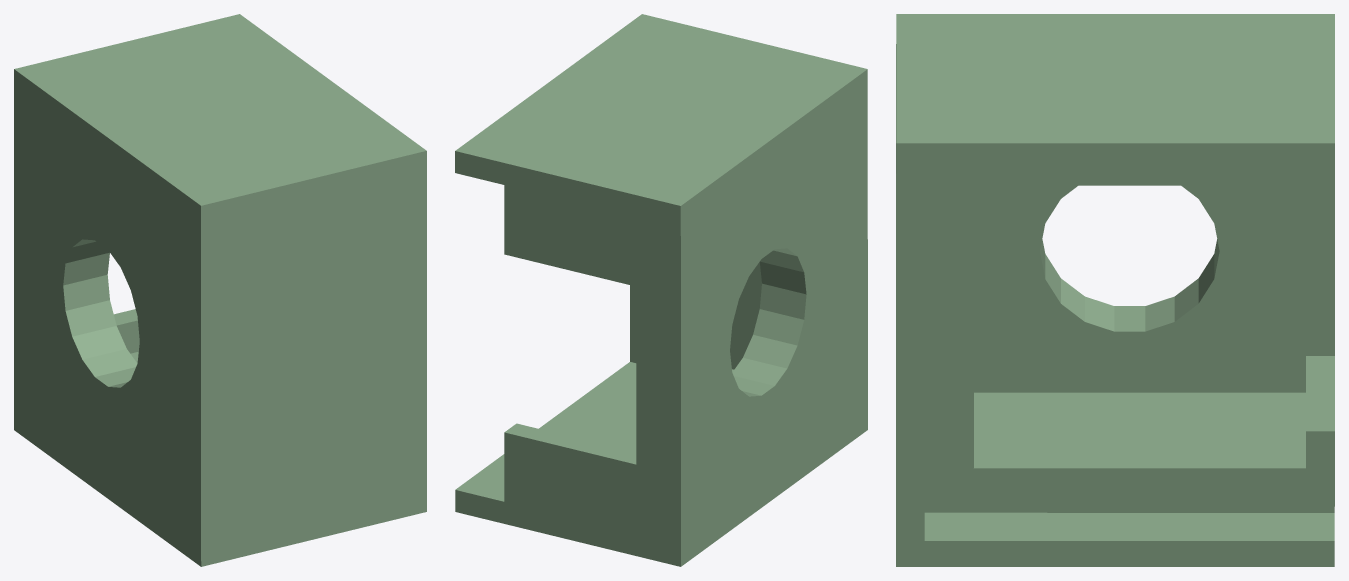
The model's file is upperCase_obj.obj.
The picture shows the model from 3 angles, left to right: view 1: azimuth 30°, elevation 25°; view 2: azimuth 150°, elevation 25°; view 3: azimuth 270°, elevation 25°; orthographic projection. The views are drawn at different scales.
Visible parts, largest first — view 1: upperCase\Solid; view 2: upperCase\Solid; view 3: upperCase\Solid.
Boxes of the visible parts, bbox=[...] form: upperCase\Solid: bbox=[14, 14, 426, 566]; upperCase\Solid: bbox=[455, 14, 867, 566]; upperCase\Solid: bbox=[896, 14, 1334, 566].
Size of the model in its own units: 18.71 by 28.61 by 26.86.
